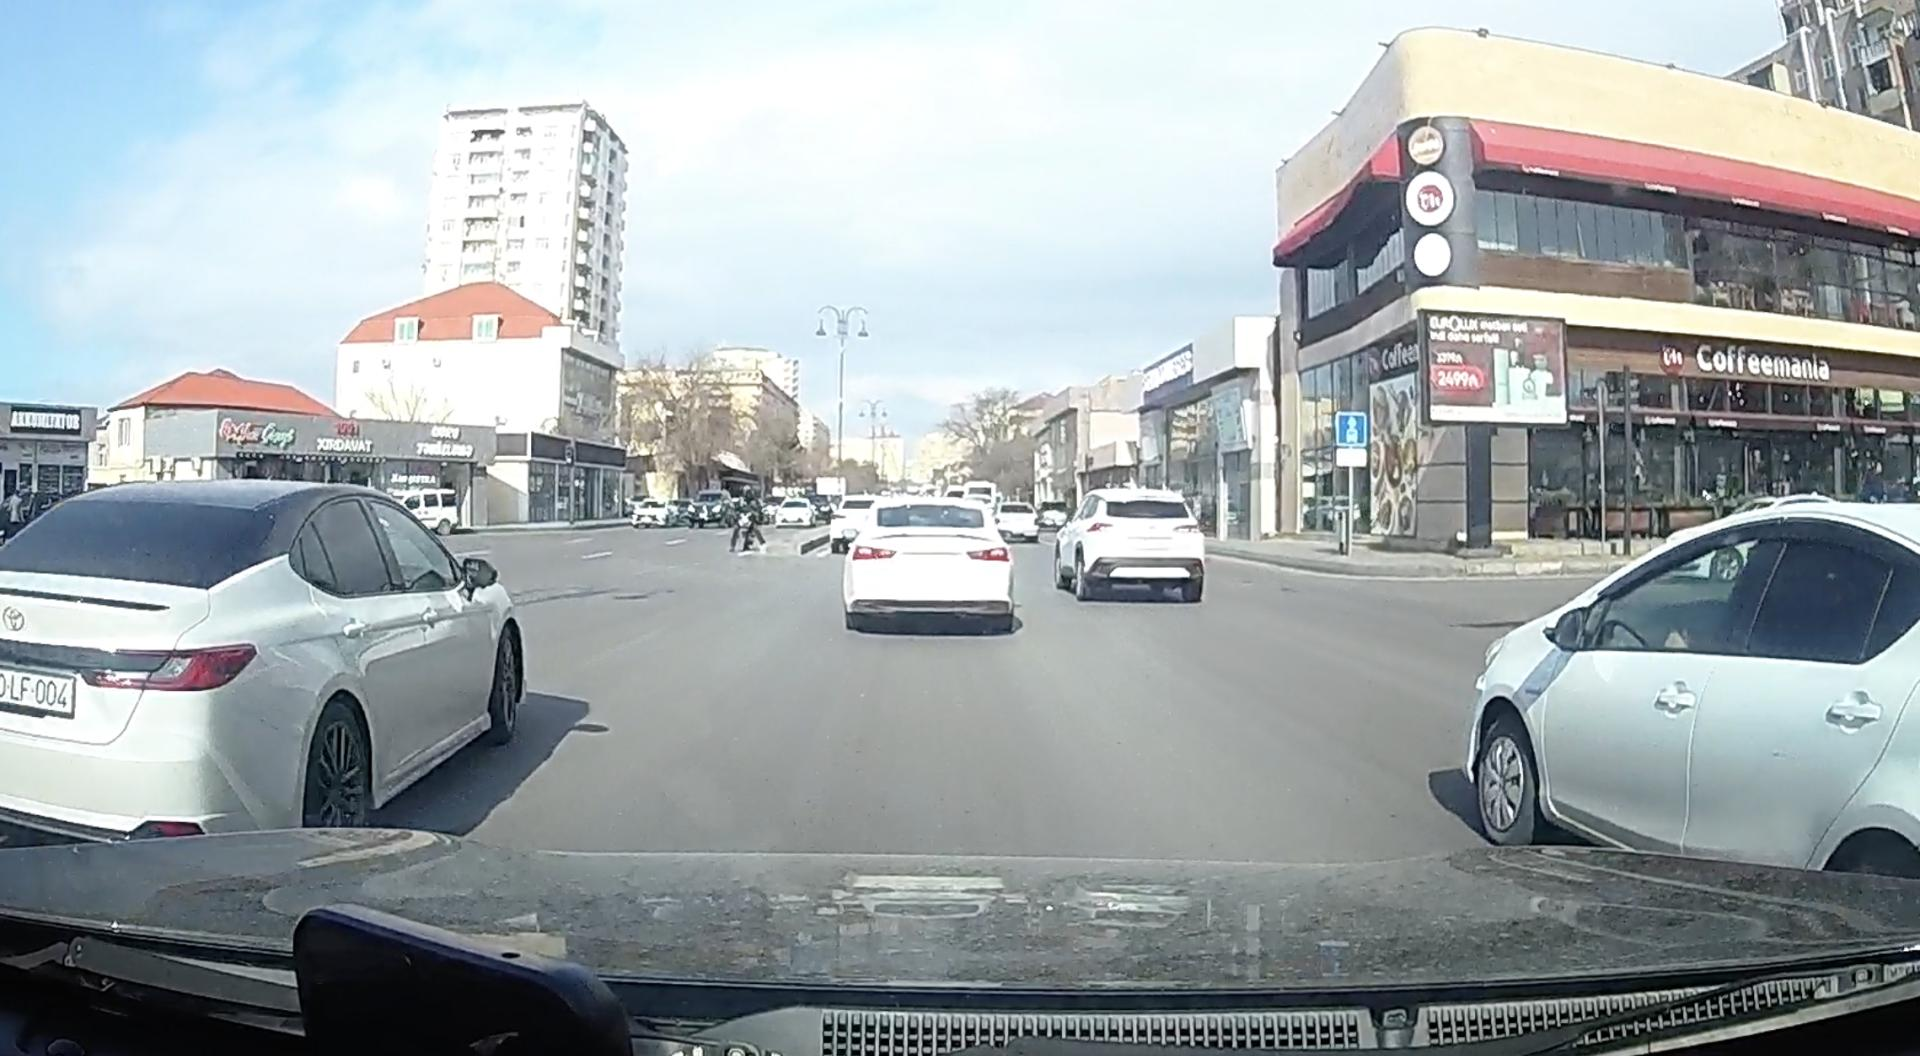banner: (1417, 306, 1569, 428)
